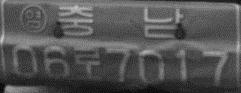0: (137, 48, 165, 86), (10, 43, 38, 80)
1: (169, 48, 196, 86)
6: (42, 44, 71, 81)
7: (104, 46, 132, 85), (201, 49, 229, 86)
로: (73, 45, 102, 82)
영: (19, 4, 47, 34)
충남_D: (55, 4, 183, 38)
